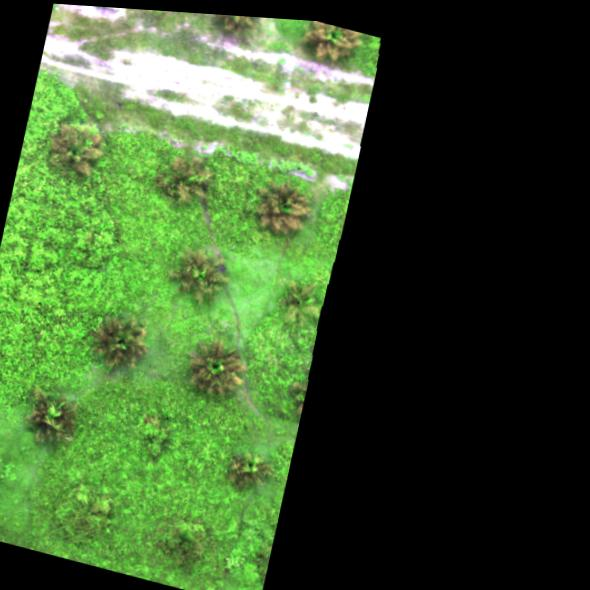oilpalm: (250, 175, 320, 248), (184, 332, 252, 400), (85, 308, 152, 372), (298, 20, 365, 66), (214, 14, 260, 36)
